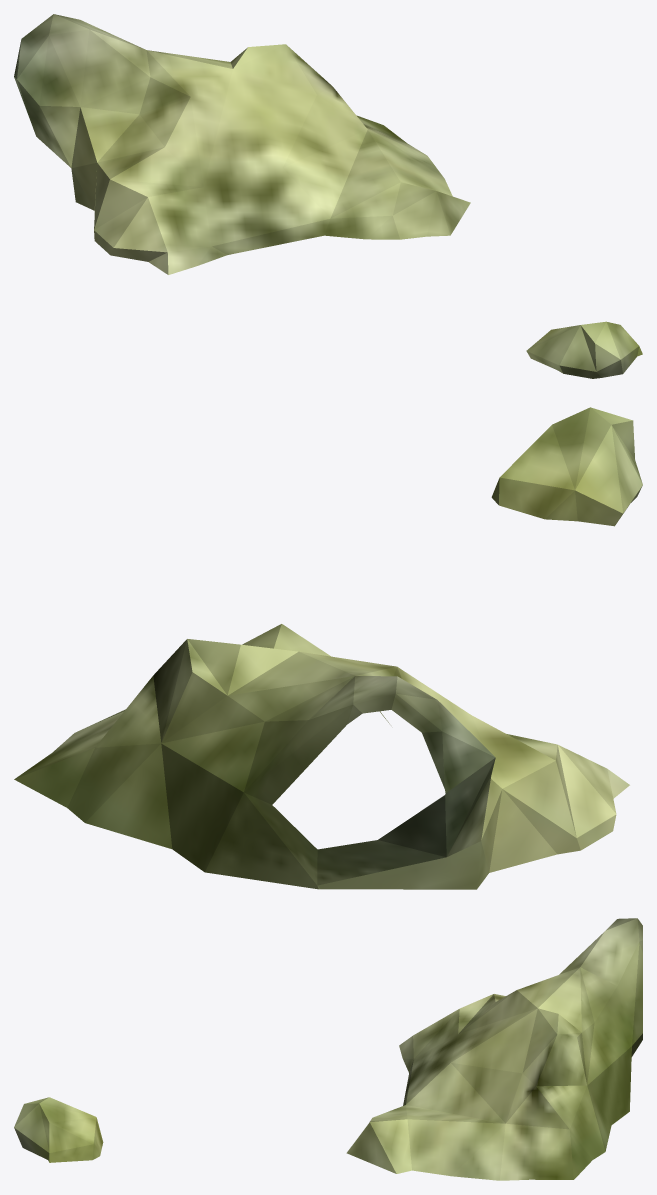
3 renders of one model, top to bottom at view 1: azimuth 30°, elevation 25°; view 2: azimuth 150°, elevation 25°; view 3: azimuth 270°, elevation 25°, orthographic. The views are drawn at different scales.
Bounding box in the file's own units: 1.34 × 0.575 × 2.4.
1 material, 1 textured.
